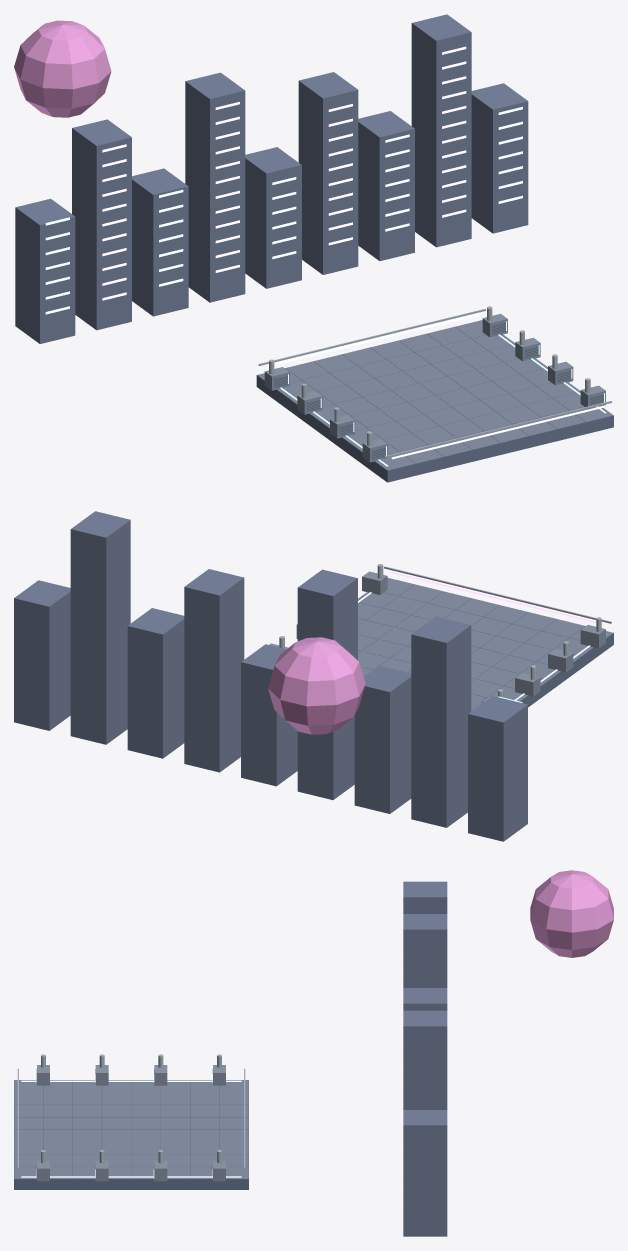
File: 09_Cyberpunk.glb
The picture shows the model from 3 angles, top to bottom: view 1: azimuth 30°, elevation 25°; view 2: azimuth 150°, elevation 25°; view 3: azimuth 270°, elevation 25°; orthographic projection. The views are drawn at different scales.
Visible parts, largest first — view 1: city_tower (×9), Neon_Moon, Arena_Base, rail (×2); view 2: city_tower (×9), Ground_Tile (×16), Neon_Moon, Arena_Base, rail, neon, hvac_unit_96, hvac_unit_86, hvac_unit_76, hvac_unit_137; view 3: city_tower (×5), Neon_Moon, Arena_Base.
Boxes of the visible parts, bbox=[...] form: city_tower (×9): bbox=[15, 14, 528, 343]; Neon_Moon: bbox=[14, 20, 111, 117]; Arena_Base: bbox=[256, 327, 613, 482]; rail (×2): bbox=[258, 309, 611, 457]; city_tower (×9): bbox=[14, 511, 527, 841]; Ground_Tile (×16): bbox=[362, 584, 584, 685]; Neon_Moon: bbox=[268, 637, 365, 734]; Arena_Base: bbox=[358, 584, 613, 710]; rail: bbox=[384, 566, 611, 623]; neon: bbox=[391, 571, 604, 624]; hvac_unit_96: bbox=[580, 625, 605, 648]; hvac_unit_86: bbox=[548, 648, 573, 672]; hvac_unit_76: bbox=[515, 673, 540, 696]; hvac_unit_137: bbox=[362, 571, 387, 594]; city_tower (×5): bbox=[403, 881, 447, 1236]; Neon_Moon: bbox=[530, 870, 613, 957]; Arena_Base: bbox=[14, 1080, 248, 1189].
Bounding box in the file's own units: 34.5 × 15.8 × 40.85.
